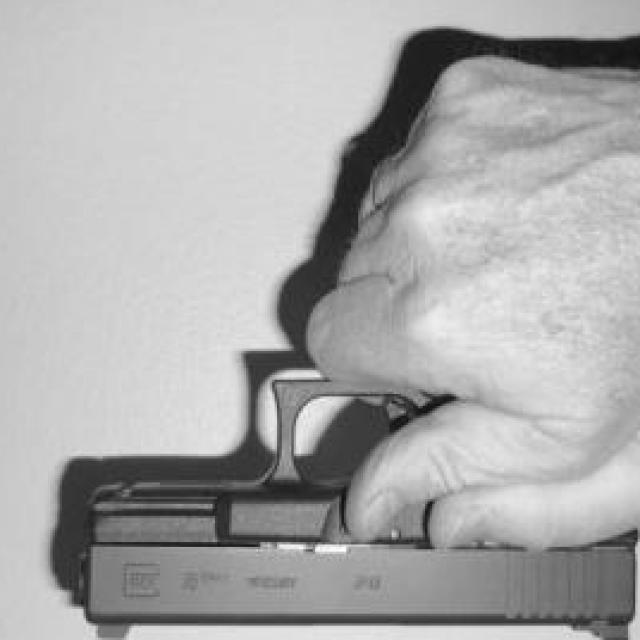pistol: (74, 384, 640, 640)
